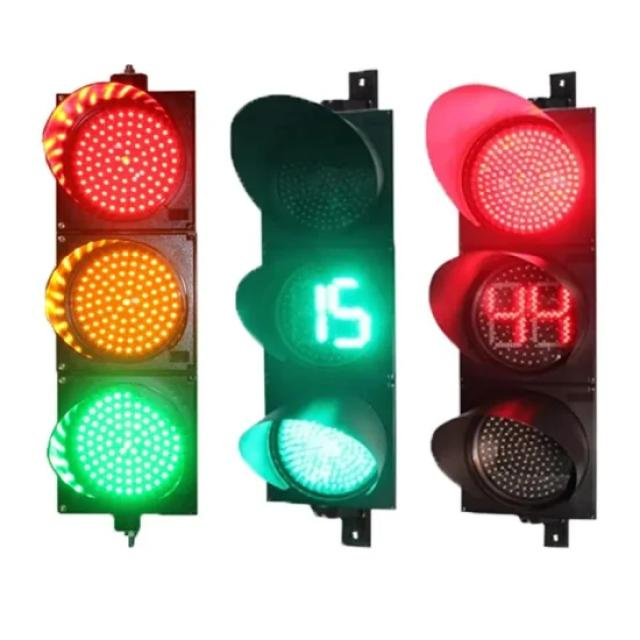Hijau: (75, 385, 186, 502), (275, 416, 381, 498)
Kuning: (75, 250, 184, 358)
Merah: (470, 122, 582, 234), (70, 107, 181, 215)
